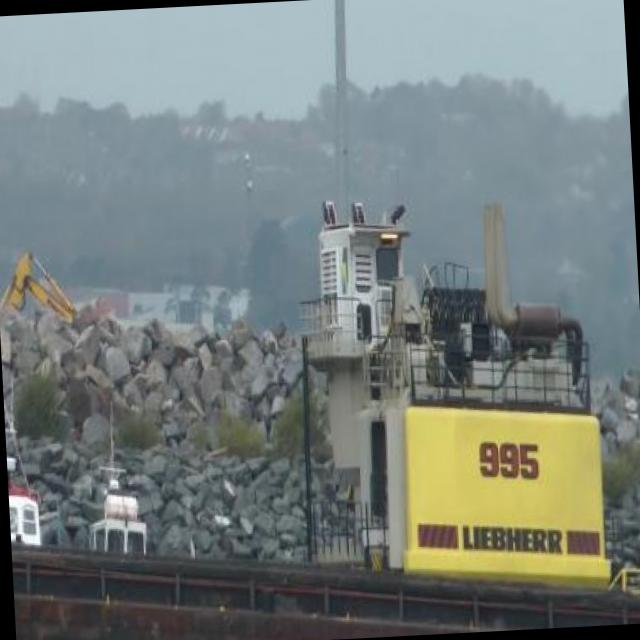Excavator: (283, 184, 616, 609), (0, 245, 75, 320)
